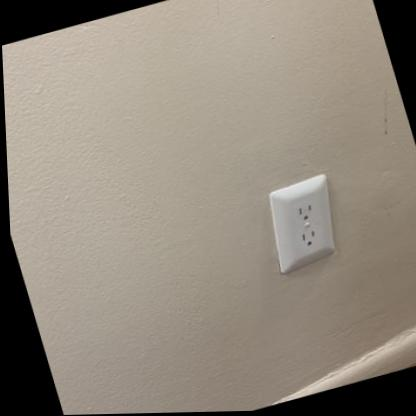OUTLET: (257, 176, 346, 273)
